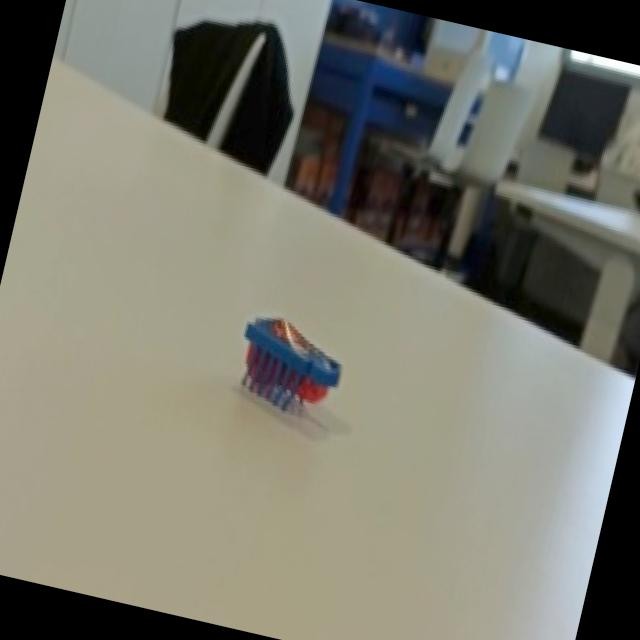1_NanoBug_Azul: (190, 270, 380, 456)
